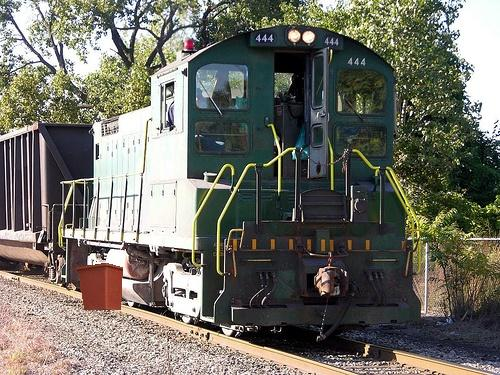tampered: (77, 250, 123, 310)
